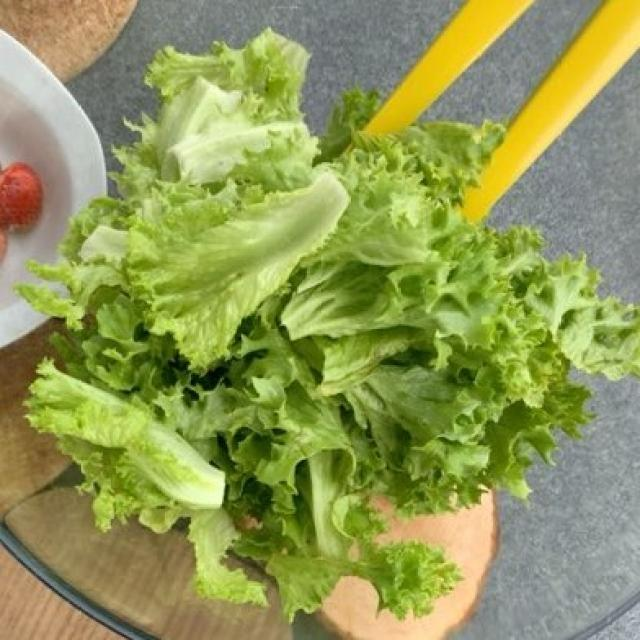salad: (42, 81, 616, 588)
